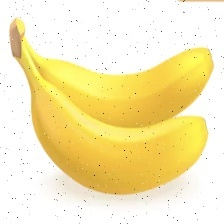banana: (58, 26, 198, 161)
